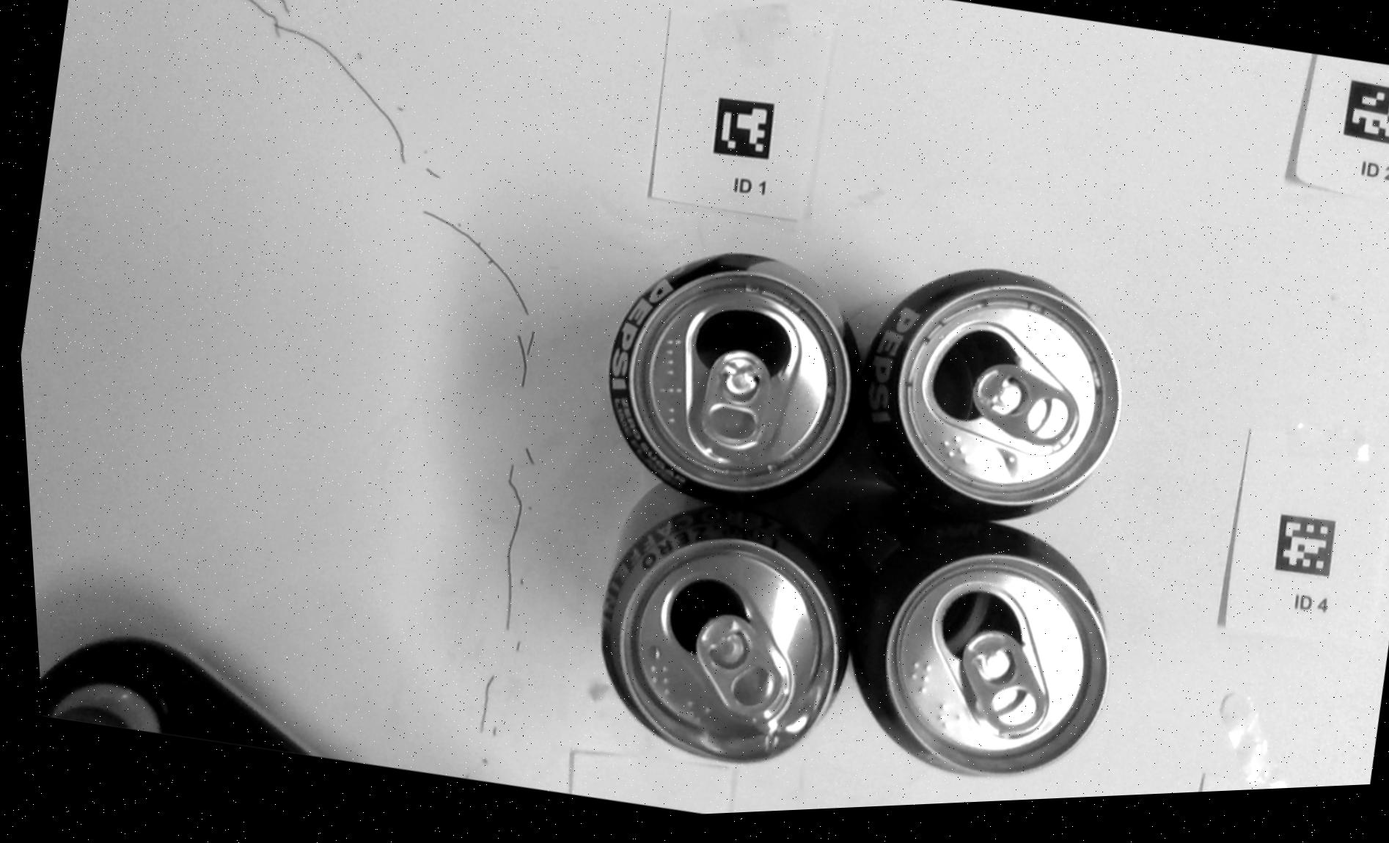can_coke_decaf: (603, 506, 847, 761)
can_coke_zero: (851, 521, 1108, 774)
can_pepsi: (858, 269, 1121, 518)
can_pepsi_zero: (608, 253, 857, 499)
